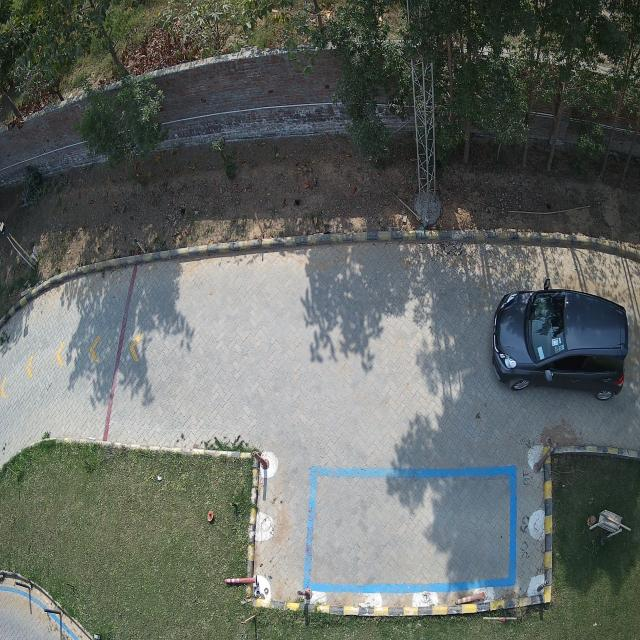car: (492, 288, 629, 400)
